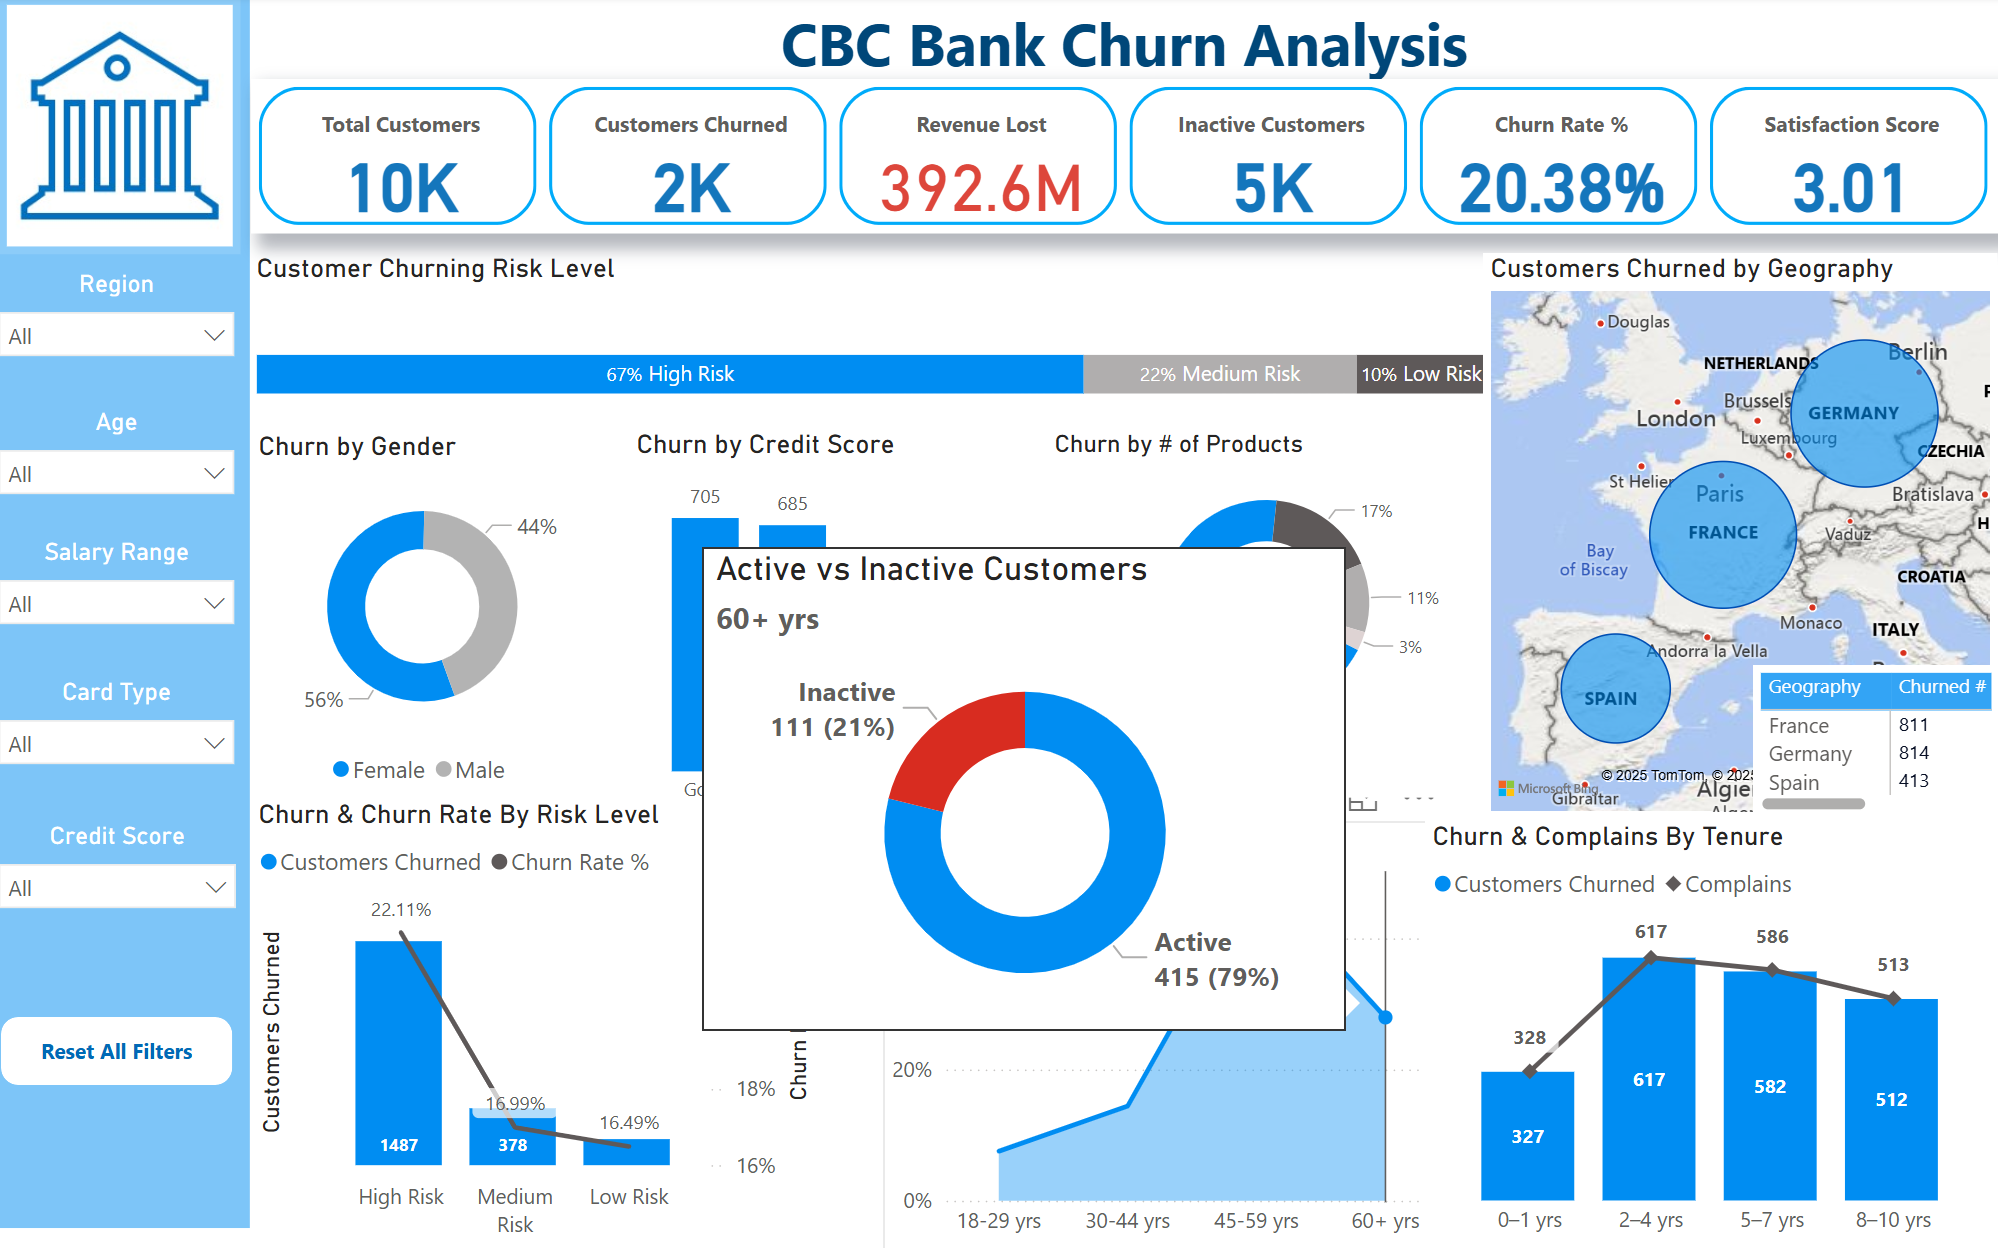

What the dashboard file says about the page in this screenshot:
{"tool":"powerbi","page":{"name":"Home","canvas":[1280,800],"ordinal":0},"visuals":[{"type":"hundredPercentStackedBarChart","title":"Customer Churning Risk Level","fields":{"Series":["Customer-Churn-Records.Risk Level"],"Y":["Measure Table.Total Customers"]},"box":[164.9,164.9,793.4,129.3],"z":0},{"type":"textbox","box":[231.6,0,980.9,60],"z":1000},{"type":"areaChart","title":"Churn Rate by Age Bracket","fields":{"Y":["Measure Table.Churn Rate %"],"Category":["Age Brackets Order.Age Bracket"]},"box":[568.9,526.3,358.2,274.1],"z":2000},{"type":"shape","box":[0,0,165.2,786.2],"z":3000},{"type":"cardVisual","fields":{"Data":["Measure Table.Total Customers","Measure Table.Customers Churned","Measure Table.Churned Revenue Lost","Measure Table.Inactive Customers","Measure Table.Churn Rate %","Measure Table.Average Satisfaction Score"]},"box":[165.2,53.5,1114.6,98.7],"z":4000},{"type":"donutChart","title":"Churn by Gender","fields":{"Category":["Customer-Churn-Records.Gender"],"Y":["Measure Table.Customers Churned"]},"box":[165.2,277.4,218.3,235.1],"z":5000},{"type":"columnChart","title":"Churn by Credit Score ","fields":{"Category":["Customer-Churn-Records.CreditScoreGroup"],"Y":["Measure Table.Customers Churned"]},"box":[406.6,277.3,266,248.2],"z":6000},{"type":"slicer","title":"Salary Range","fields":{"Values":["Customer-Churn-Records.Salary Range"]},"box":[0,345.1,165.2,63.7],"z":7000},{"type":"slicer","title":"Age","fields":{"Values":["Customer-Churn-Records.Age Bracket"]},"box":[0,262.1,165.2,64.6],"z":8000},{"type":"slicer","title":"Credit Score","fields":{"Values":["Customer-Churn-Records.CreditScoreGroup"]},"box":[0,526,166.1,69.2],"z":9000},{"type":"slicer","title":"Card Type","fields":{"Values":["Customer-Churn-Records.Card Type"]},"box":[0,434.6,165.2,64.6],"z":10000},{"type":"lineStackedColumnComboChart","title":"Churn & Churn Rate By  Risk Level","fields":{"Category":["Customer-Churn-Records.Risk Level"],"Y":["Measure Table.Customers Churned"],"Y2":["Measure Table.Churn Rate %"]},"box":[165.8,512.4,361.6,287.6],"z":11000},{"type":"donutChart","title":"Churn by # of Products","fields":{"Category":["Customer-Churn-Records.NumOfProducts (bins)"],"Y":["Measure Table.Customers Churned"]},"box":[672.6,277.3,279.2,235.1],"z":12000},{"type":"lineStackedColumnComboChart","title":"Churn & Complains By Tenure","fields":{"Category":["Customer-Churn-Records.TenureGroup"],"Y":["Measure Table.Customers Churned"],"Y2":["Sum(Customer-Churn-Records.Complain)"]},"box":[914.6,526.3,365.4,274.1],"z":13000},{"type":"map","fields":{"Category":["Customer-Churn-Records.Geography"],"Size":["Measure Table.Customers Churned"]},"box":[951.6,164.5,327.9,360.9],"z":14000},{"type":"shape","box":[6.1,651.1,147.4,43.4],"z":15000},{"type":"slicer","title":"Region","fields":{"Values":["Customer-Churn-Records.Geography"]},"box":[0,174.4,165.2,63.7],"z":16000},{"type":"image","box":[5.5,0.9,154.1,164.2],"z":17000},{"type":"pivotTable","fields":{"Rows":["Customer-Churn-Records.Geography"],"Values":["Measure Table.Customers Churned"]},"box":[1123,427.2,156.9,97.8],"z":18000}]}

Visuals, with their boxes in screenshot pixels (x1, y1, x2, y2), scaled from the page's 1280x800 canvas onto the 1998x1248 screenshot:
"Customer Churning Risk Level" hundredPercentStackedBarChart: {"left": 257, "top": 257, "right": 1496, "bottom": 459}
textbox: {"left": 362, "top": 0, "right": 1893, "bottom": 94}
"Churn Rate by Age Bracket" areaChart: {"left": 888, "top": 821, "right": 1447, "bottom": 1247}
shape: {"left": 0, "top": 0, "right": 258, "bottom": 1226}
cardVisual - Measure Table.Total Customers x Measure Table.Customers Churned: {"left": 258, "top": 83, "right": 1997, "bottom": 237}
"Churn by Gender" donutChart: {"left": 258, "top": 433, "right": 599, "bottom": 800}
"Churn by Credit Score " columnChart: {"left": 635, "top": 433, "right": 1050, "bottom": 820}
"Salary Range" slicer: {"left": 0, "top": 538, "right": 258, "bottom": 638}
"Age" slicer: {"left": 0, "top": 409, "right": 258, "bottom": 510}
"Credit Score" slicer: {"left": 0, "top": 821, "right": 259, "bottom": 929}
"Card Type" slicer: {"left": 0, "top": 678, "right": 258, "bottom": 779}
"Churn & Churn Rate By  Risk Level" lineStackedColumnComboChart: {"left": 259, "top": 799, "right": 823, "bottom": 1247}
"Churn by # of Products" donutChart: {"left": 1050, "top": 433, "right": 1486, "bottom": 799}
"Churn & Complains By Tenure" lineStackedColumnComboChart: {"left": 1428, "top": 821, "right": 1997, "bottom": 1247}
map - Customer-Churn-Records.Geography x Measure Table.Customers Churned: {"left": 1485, "top": 257, "right": 1997, "bottom": 820}
shape: {"left": 10, "top": 1016, "right": 240, "bottom": 1083}
"Region" slicer: {"left": 0, "top": 272, "right": 258, "bottom": 371}
image: {"left": 9, "top": 1, "right": 249, "bottom": 258}
pivotTable - Customer-Churn-Records.Geography x Measure Table.Customers Churned: {"left": 1753, "top": 666, "right": 1997, "bottom": 819}
